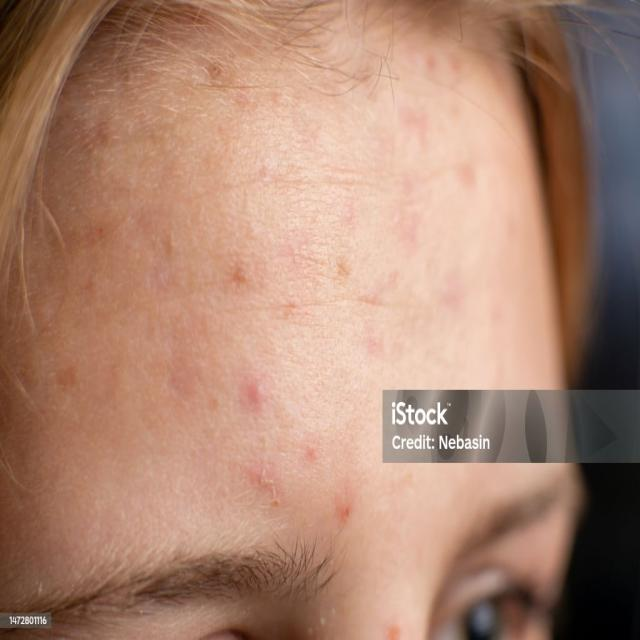papule: (230, 349, 284, 434), (316, 470, 374, 544), (391, 89, 441, 166), (209, 246, 258, 321), (420, 30, 477, 86), (451, 147, 496, 208), (294, 419, 331, 470)
